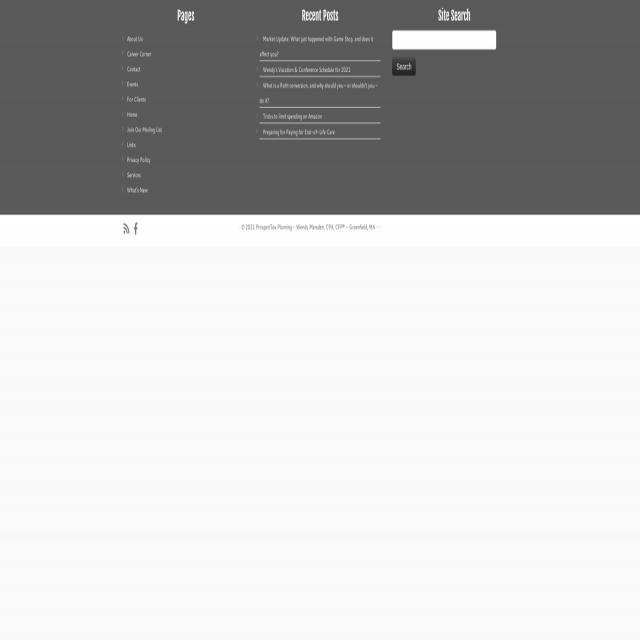button: (392, 58, 416, 76), (123, 222, 132, 237), (134, 222, 140, 237)
field: (392, 30, 496, 50)
